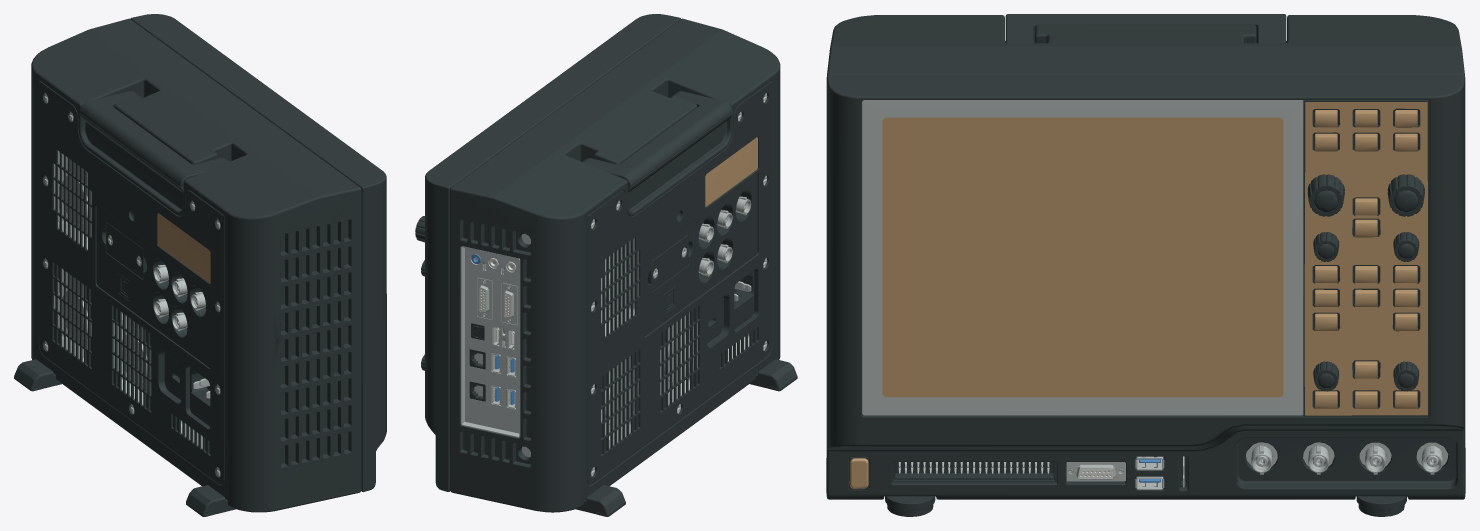
Rendered from testingTool_oscilloscope_a01.glb.
3 renders of one model, left to right at view 1: azimuth 30°, elevation 25°; view 2: azimuth 150°, elevation 25°; view 3: azimuth 270°, elevation 25°, orthographic. The views are drawn at different scales.
Size of the model in its own units: 0.1492 by 0.2349 by 0.3182.
